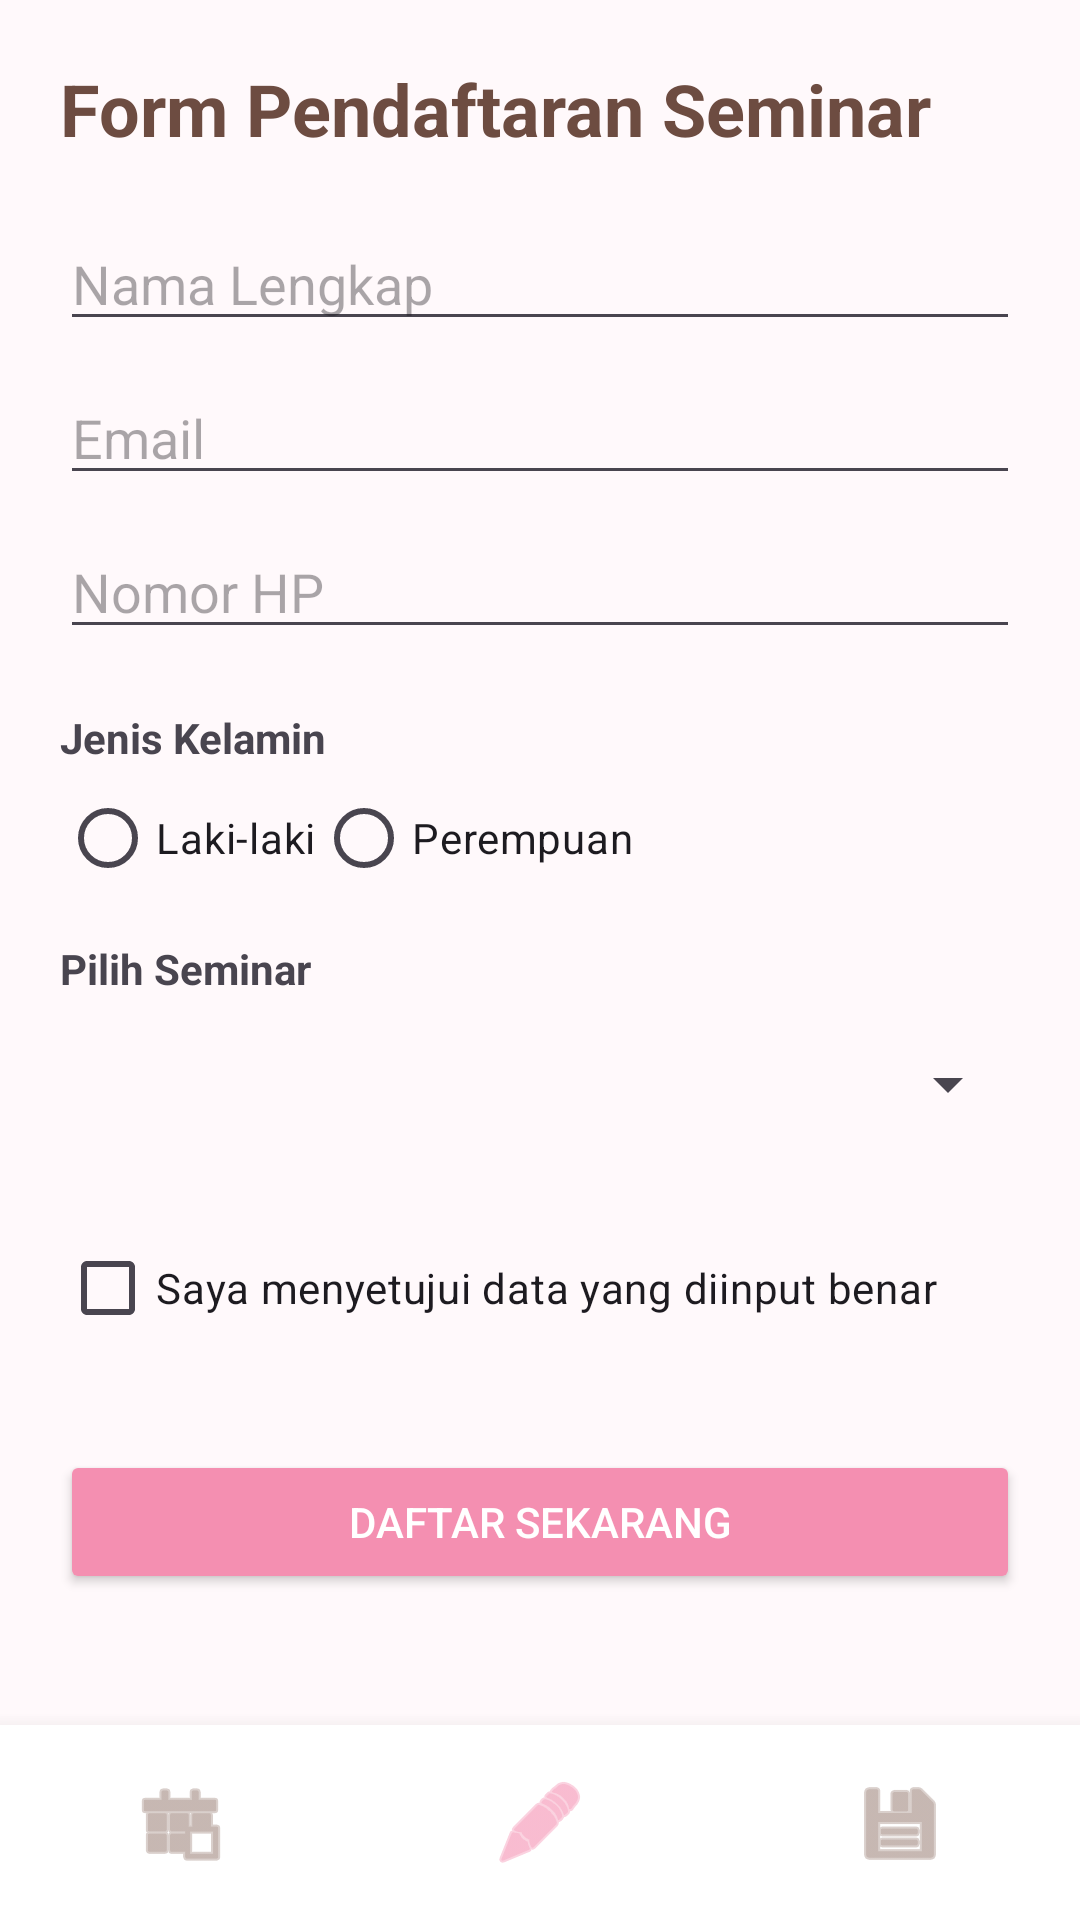

Where icons sit on this 1080×1920 app screen, as (x1, y1, x2, y2):
edit: (499, 1782, 580, 1863)
save: (864, 1787, 936, 1860)
today: (142, 1788, 220, 1861)
